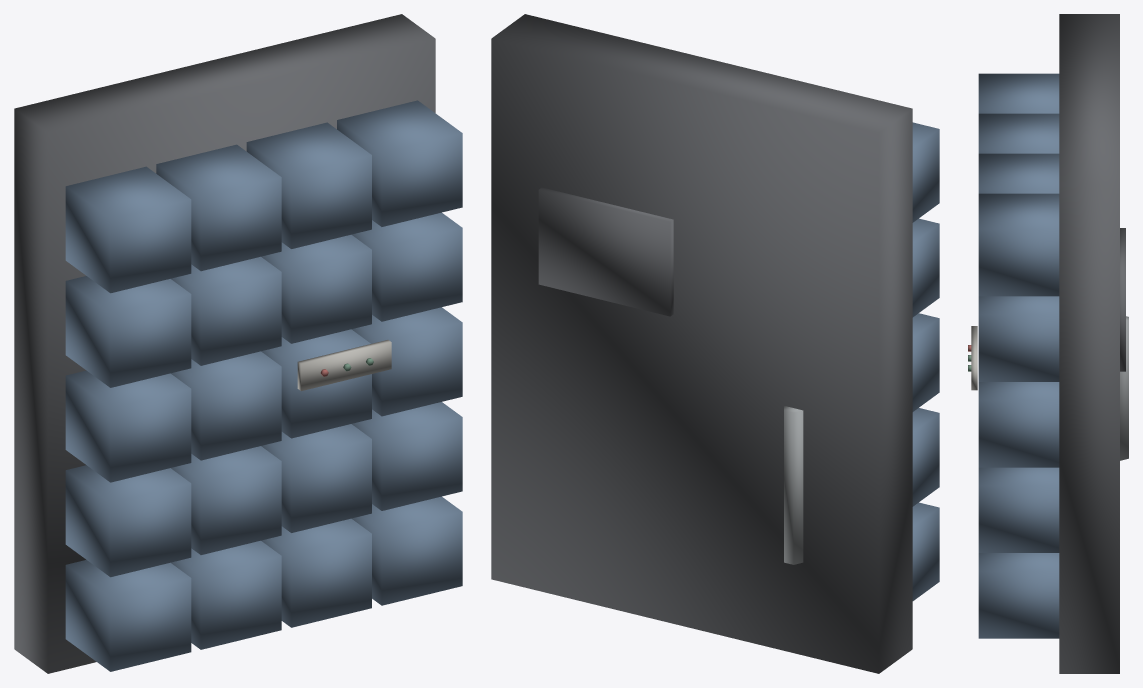
Rendered from parts_bin_rack__service.glb.
3 renders of one model, left to right at view 1: azimuth 30°, elevation 25°; view 2: azimuth 150°, elevation 25°; view 3: azimuth 270°, elevation 25°, orthographic. The views are drawn at different scales.
Parts seen in each view (by area): view 1: world; view 2: world; view 3: world.
Boxes of the visible parts, left/top/right/bottom form: world: left=14, top=14, right=462, bottom=673; world: left=491, top=14, right=939, bottom=673; world: left=968, top=14, right=1128, bottom=673.
Size of the model in its own units: 1.2 by 1.6 by 0.477.
